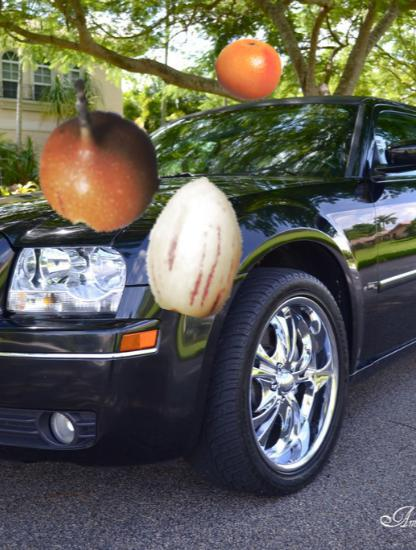Granadilla: (30, 87, 178, 235)
Grapefruit: (215, 36, 283, 104)
Pepino: (127, 177, 266, 316)
